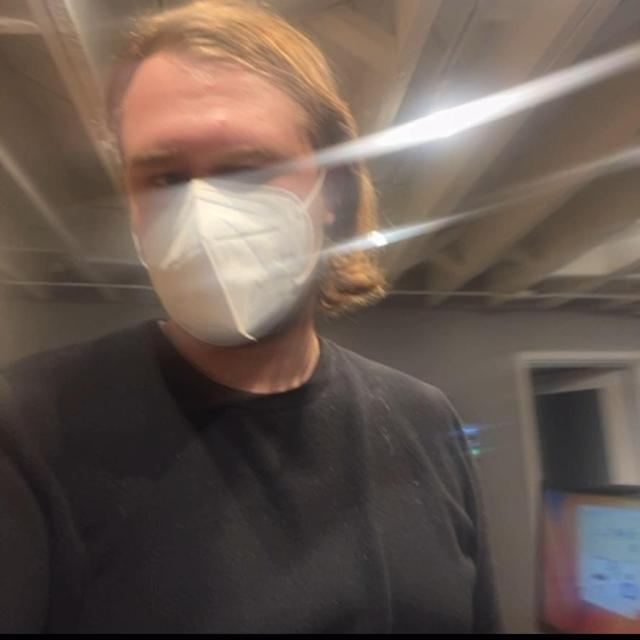no-helmet: (98, 0, 383, 344)
